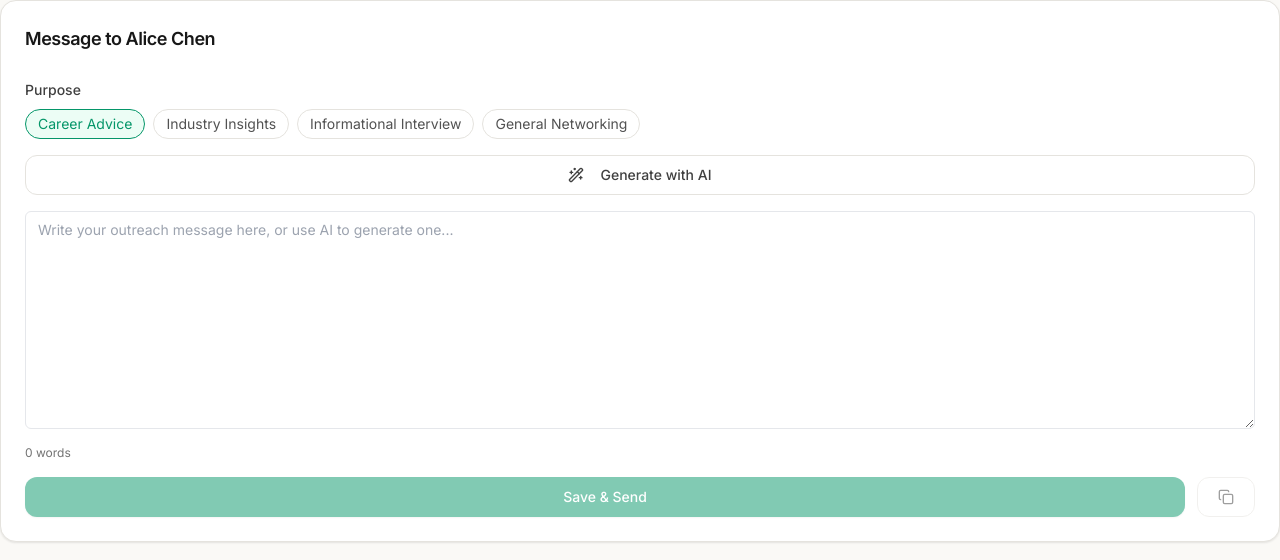
Test: MessageComposer › enables send button when message has content
Replace the text in the text box with placeholder "Write your outreach" with "Hello!" at (640, 320), box [25,211,1255,429]
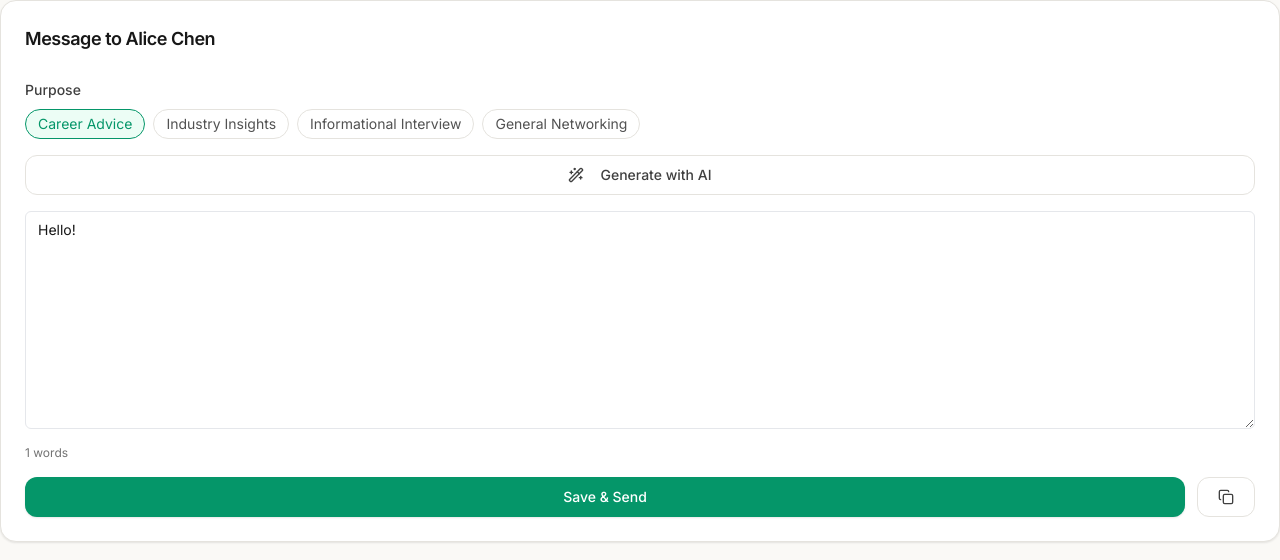
Result: the button "Save & Send" is enabled at [25,477,1185,517]
